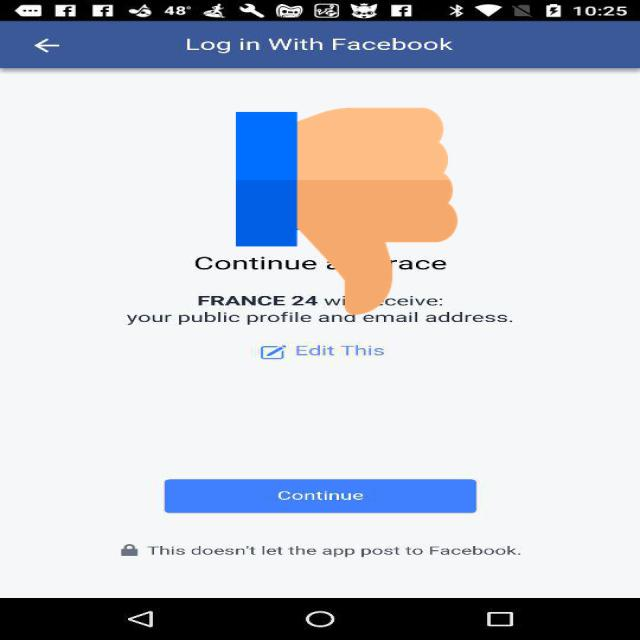obstruction: (236, 103, 457, 320)
